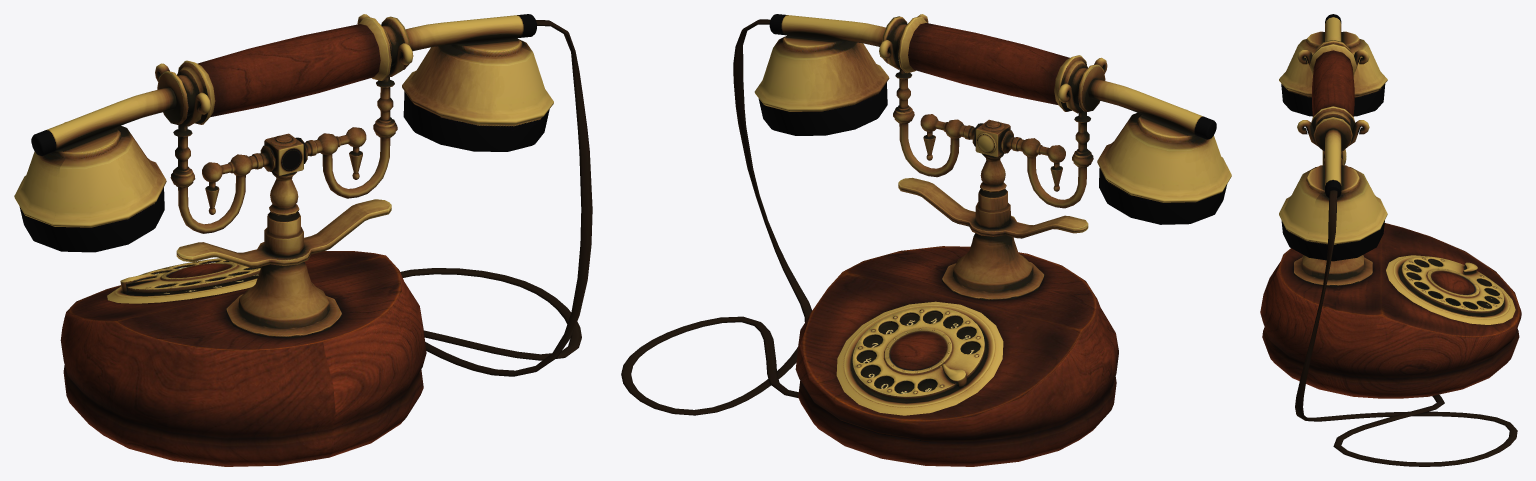
The model's file is Telephone.glb.
The picture shows the model from 3 angles, left to right: view 1: azimuth 30°, elevation 25°; view 2: azimuth 150°, elevation 25°; view 3: azimuth 270°, elevation 25°; orthographic projection. The views are drawn at different scales.
Parts seen in each view (by area): view 1: Telephone; view 2: Telephone; view 3: Telephone.
Part boxes in pixels (x1,y1,x2,y2): Telephone: (14, 14, 592, 466); Telephone: (621, 14, 1231, 466); Telephone: (1260, 14, 1521, 466).
Size of the model in its own units: 1.95 by 1.22 by 1.04.
1 material, 1 textured.
